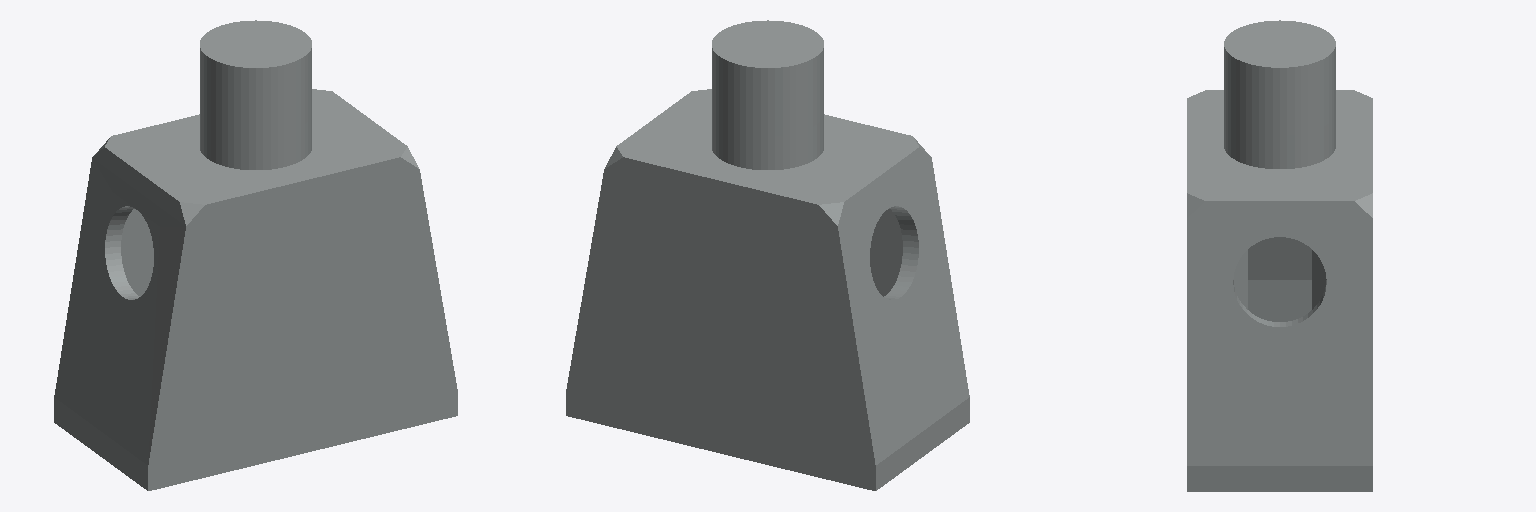
URDF robot description (973pb2066c01__light_bluish_gray):
<?xml version="1.0"?>
<robot name="973pb2066c01__light_bluish_gray">
  <link name="973pb2066c01__light_bluish_gray">
    <inertial>
      <origin xyz="-0.000000 -0.000000 -0.005464" rpy="0 0 0"/>
      <mass value="0.001692"/>
      <inertia ixx="4.425486638e-08" ixy="2.473867799e-26" ixz="1.994942606e-25" iyy="5.928018447e-08" iyz="3.278913035e-24" izz="3.221632152e-08"/>
    </inertial>
    <visual>
      <geometry>
        <mesh filename="../meshes/visual/973.obj" scale="1 1 1"/>
      </geometry>
      <material name="973pb2066c01__light_bluish_gray_color">
        <color rgba="0.630 0.650 0.650 1.000"/>
      </material>
    </visual>
    <collision>
      <geometry>
        <mesh filename="../meshes/collision/973_hull.obj" scale="1 1 1"/>
      </geometry>
    </collision>
  </link>
</robot>

--- Render facts (derived) ---
Views: 3 orthographic renders of the robot side by side, from view 1: azimuth 30°, elevation 25°; view 2: azimuth 150°, elevation 25°; view 3: azimuth 270°, elevation 25°.
Model 973pb2066c01__light_bluish_gray with 1 links and 0 joints (none), rooted at 973pb2066c01__light_bluish_gray, posed all joints at 0.
Links seen in each view (by area): view 1: 973pb2066c01__light_bluish_gray; view 2: 973pb2066c01__light_bluish_gray; view 3: 973pb2066c01__light_bluish_gray.
Boxes of the visible links, x1,y1,x2,y2 form: 973pb2066c01__light_bluish_gray: [54, 20, 457, 490]; 973pb2066c01__light_bluish_gray: [566, 20, 969, 490]; 973pb2066c01__light_bluish_gray: [1187, 20, 1372, 491].
Size in the robot's own frame: 0.0152 by 0.008 by 0.0176 metres.
Meshes: 1 distinct files referenced, 1 mesh visuals loaded (1 OBJ).
